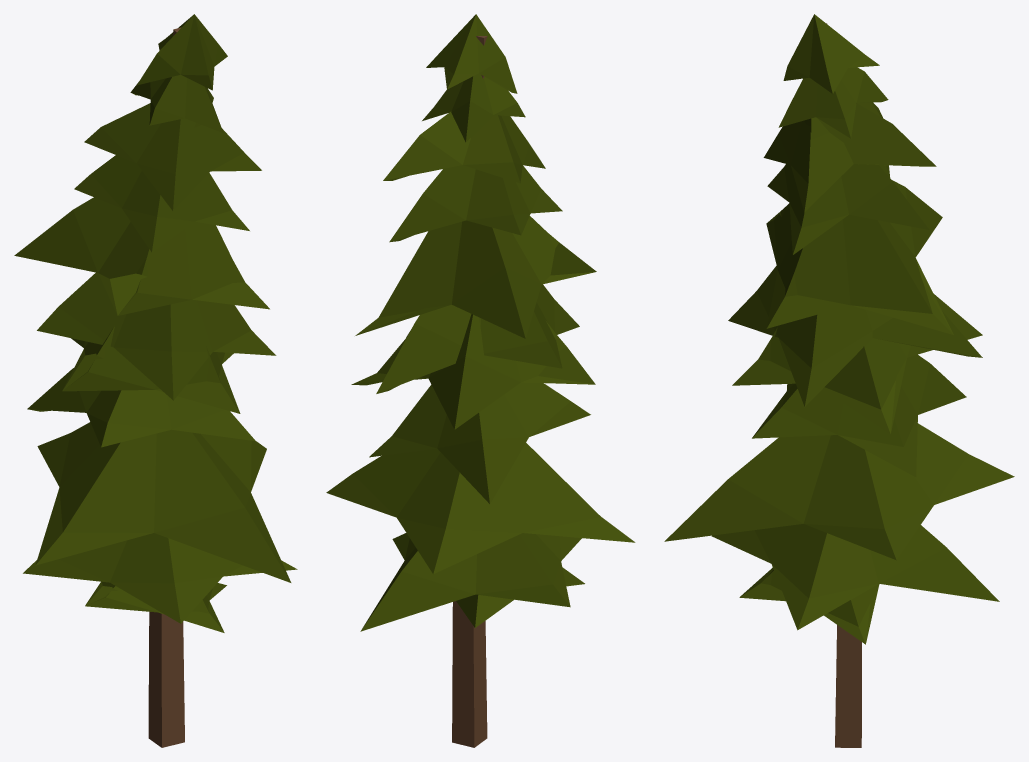
The model's file is mesh_tree5_1.fbx.
The picture shows the model from 3 angles, left to right: view 1: azimuth 30°, elevation 25°; view 2: azimuth 150°, elevation 25°; view 3: azimuth 270°, elevation 25°; orthographic projection. The views are drawn at different scales.
Visible parts, largest first — view 1: mesh_tree5_1; view 2: mesh_tree5_1; view 3: mesh_tree5_1.
Boxes of the visible parts, x1,y1,x2,y2 form: mesh_tree5_1: (14,14,297,747); mesh_tree5_1: (326,14,635,747); mesh_tree5_1: (664,14,1014,747).
Bounding box in the file's own units: 2.97 × 7.58 × 3.29.
